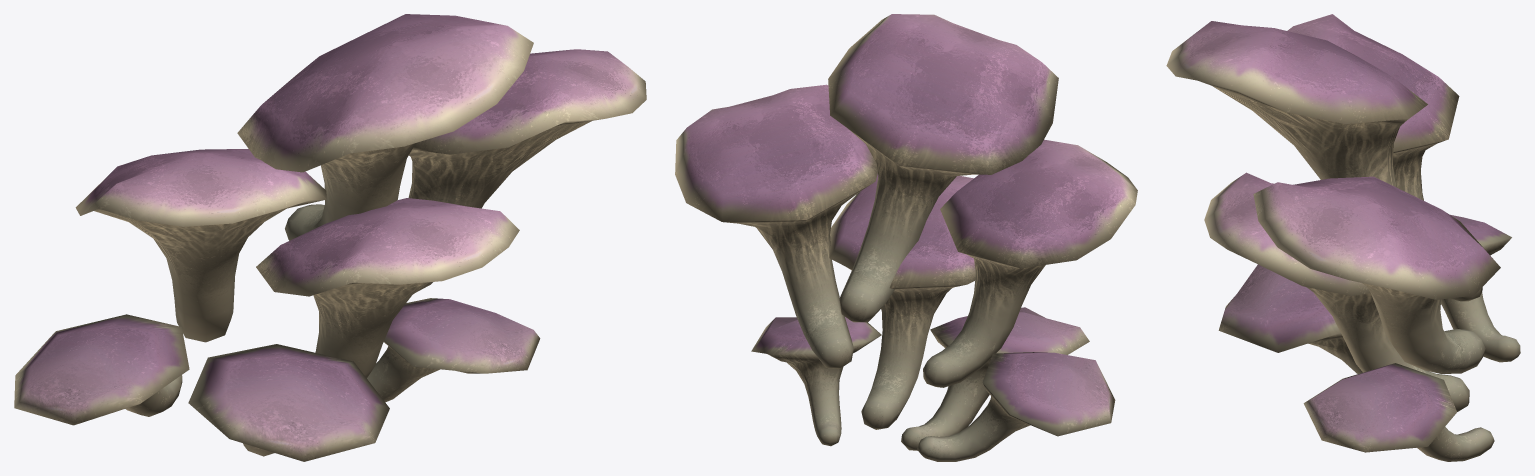
Rendered from Mushroom_Oyster.gltf.
3 views of the same model, side by side, from view 1: azimuth 30°, elevation 25°; view 2: azimuth 150°, elevation 25°; view 3: azimuth 270°, elevation 25° (orthographic). The views are drawn at different scales.
Visible parts, largest first — view 1: Mushroom_Oyster; view 2: Mushroom_Oyster; view 3: Mushroom_Oyster.
Boxes of the visible parts, left/top/right/bottom form: Mushroom_Oyster: left=14, top=14, right=646, bottom=461; Mushroom_Oyster: left=675, top=14, right=1137, bottom=461; Mushroom_Oyster: left=1166, top=14, right=1520, bottom=461.
Bounding box in the file's own units: 2.39 × 1.78 × 1.4.
Materials: 1 (1 with a texture image).
